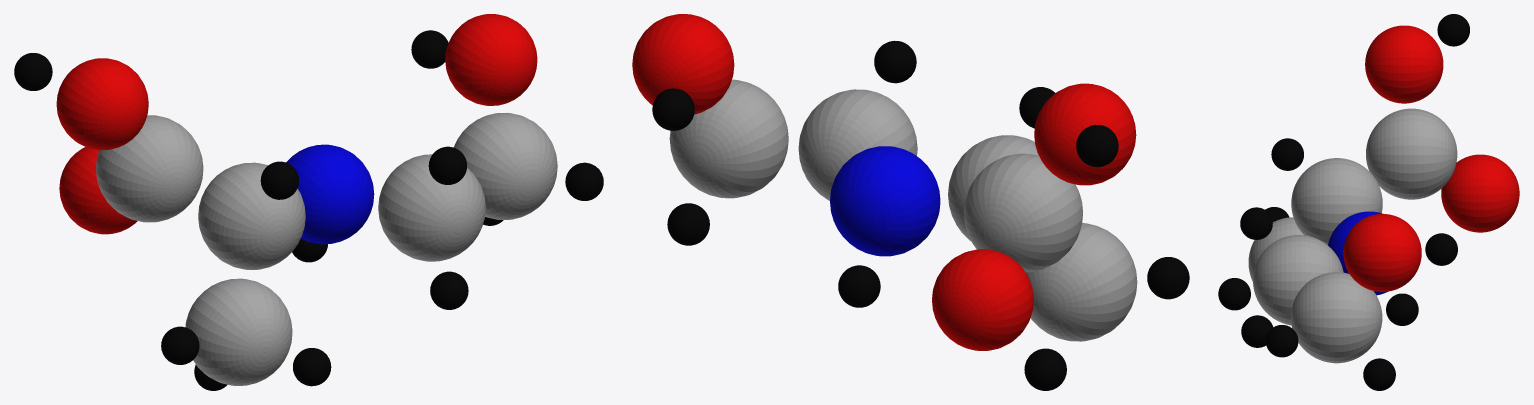
Rendered from Acetylcholine.glb.
The picture shows the model from 3 angles, left to right: view 1: azimuth 30°, elevation 25°; view 2: azimuth 150°, elevation 25°; view 3: azimuth 270°, elevation 25°; orthographic projection. The views are drawn at different scales.
Parts seen in each view (by area): view 1: world; view 2: world; view 3: world.
Boxes of the visible parts, x1,y1,x2,y2 form: world: (14,14,603,390); world: (632,14,1189,390); world: (1218,14,1519,390).
Size of the model in its own units: 7.26 by 4.55 by 4.61.
